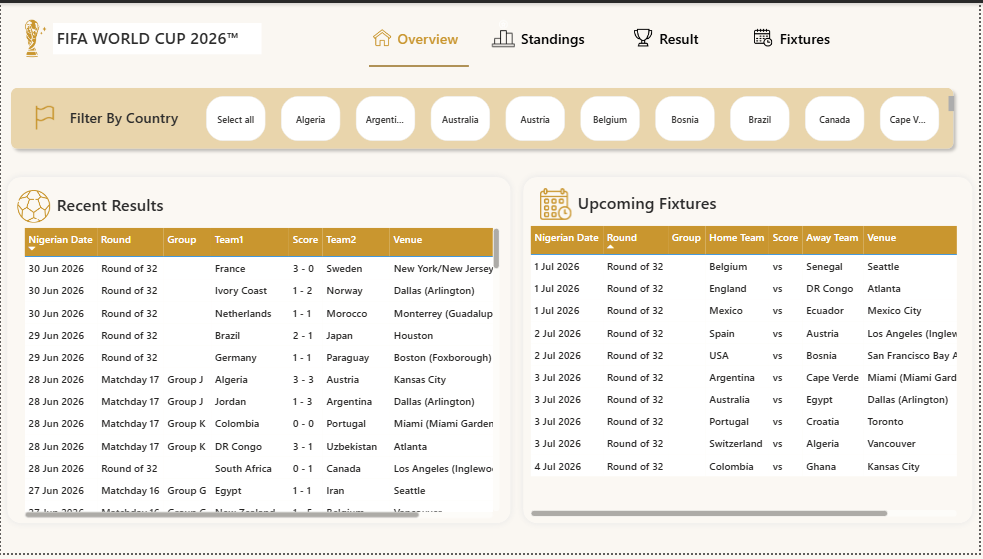

Layout of this report page (visuals, bound fields, positions):
{"tool":"powerbi","page":{"name":"Page 1","canvas":[1280,720],"ordinal":0},"visuals":[{"type":"shape","box":[675.2,220.3,604.5,469.2],"z":0},{"type":"shape","box":[0,220.3,675.2,469.2],"z":1000},{"type":"shape","box":[3.3,101.8,1251.9,97.6],"z":2000},{"type":"image","box":[17.9,15.1,49.5,61.9],"z":3000},{"type":"textbox","box":[67.4,26.1,272.5,41.3],"z":4000},{"type":"actionButton","box":[476.1,20.6,164.6,51.4],"z":5000},{"type":"actionButton","box":[640.6,20.6,164.6,51.4],"z":6000},{"type":"actionButton","box":[805.2,20.6,164.6,51.4],"z":7000},{"type":"actionButton","box":[969.8,20.6,164.6,51.4],"z":8000},{"type":"image","box":[828.7,25,23.5,41.1],"z":9000},{"type":"image","box":[986,25,23.5,41.1],"z":10000},{"type":"image","box":[640.6,4.4,35.3,72],"z":11000},{"type":"image","box":[486.4,25,23.5,41.1],"z":12000},{"type":"shape","box":[482,76.4,130.8,13.2],"z":13000},{"type":"advancedSlicerVisual","fields":{"Values":["Countries.Country"]},"box":[262.5,116.6,990,69],"z":14000},{"type":"textbox","box":[85,131.8,170.8,40],"z":15000},{"type":"textbox","box":[67.5,245,185.8,41.7],"z":16000},{"type":"textbox","box":[750,242.5,209.2,41.7],"z":17000},{"type":"image","box":[18.3,245,49.2,42.5],"z":18000},{"type":"image","box":[701.7,242.5,49.2,41.7],"z":19000},{"type":"tableEx","fields":{"Values":["Matches.Nigerian Date","Matches.Round","Matches.Group","Matches.Team1","Matches.Score","Matches.Team2","Matches.Venue"]},"box":[25.2,288.9,633.3,389.7],"z":20000},{"type":"tableEx","fields":{"Values":["Matches.Nigerian Date","Matches.Round","Matches.Group","Matches.Team1","Matches.Score","Matches.Team2","Matches.Venue"]},"box":[687.2,287.2,568.6,390.7],"z":21000},{"type":"image","box":[42.5,129.3,30.8,40.8],"z":22000}]}

Visuals, with their boxes in screenshot pixels (x1, y1, x2, y2), scaled from the page's 1280x720 canvas onto the 983x559 screenshot:
shape: Rect(519, 171, 982, 535)
shape: Rect(0, 171, 519, 535)
shape: Rect(3, 79, 964, 155)
image: Rect(14, 12, 52, 60)
textbox: Rect(52, 20, 261, 52)
actionButton: Rect(366, 16, 492, 56)
actionButton: Rect(492, 16, 618, 56)
actionButton: Rect(618, 16, 745, 56)
actionButton: Rect(745, 16, 871, 56)
image: Rect(636, 19, 654, 51)
image: Rect(757, 19, 775, 51)
image: Rect(492, 3, 519, 59)
image: Rect(374, 19, 392, 51)
shape: Rect(370, 59, 471, 70)
advancedSlicerVisual - Countries.Country: Rect(202, 91, 962, 144)
textbox: Rect(65, 102, 196, 133)
textbox: Rect(52, 190, 195, 223)
textbox: Rect(576, 188, 737, 221)
image: Rect(14, 190, 52, 223)
image: Rect(539, 188, 577, 221)
tableEx - Matches.Nigerian Date x Matches.Round: Rect(19, 224, 506, 527)
tableEx - Matches.Nigerian Date x Matches.Round: Rect(528, 223, 964, 526)
image: Rect(33, 100, 56, 132)
